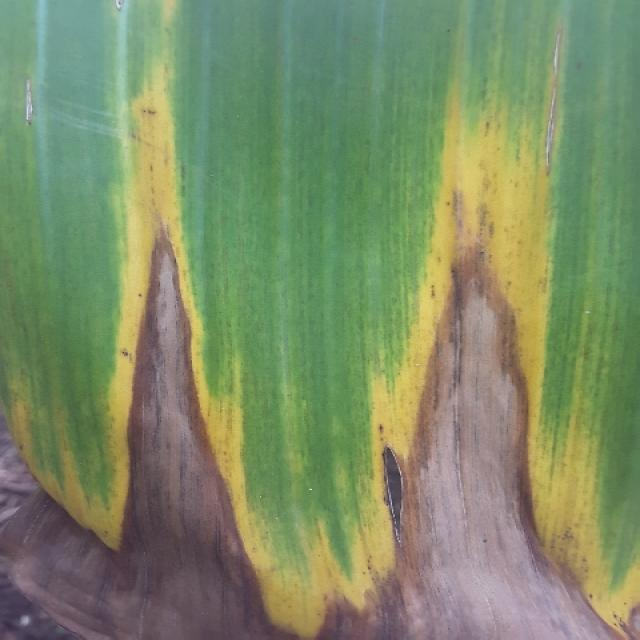Cordana: (0, 290, 640, 640), (3, 34, 284, 586), (356, 14, 624, 525), (0, 54, 44, 140), (106, 0, 206, 28)
